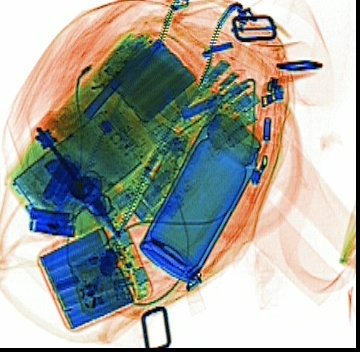powerbank: (35, 215, 153, 332), (108, 35, 195, 122)
